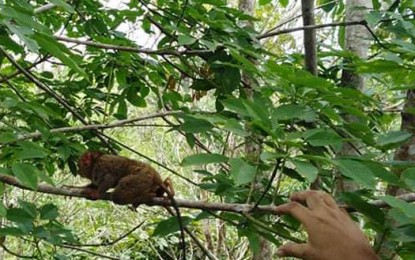tarsier: (74, 147, 177, 211)
